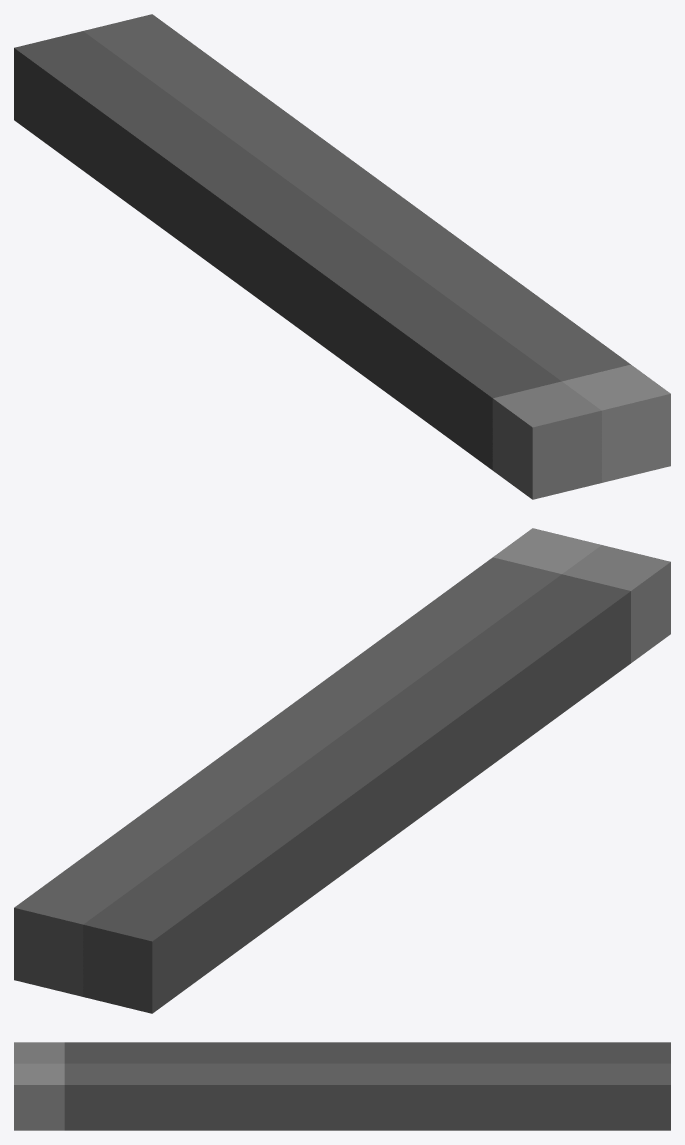
Rendered from ChronoAttackDirection.obj.
3 views of the same model, one above another, from view 1: azimuth 30°, elevation 25°; view 2: azimuth 150°, elevation 25°; view 3: azimuth 270°, elevation 25° (orthographic). The views are drawn at different scales.
Visible parts, largest first — view 1: ChronoAttackDirection; view 2: ChronoAttackDirection; view 3: ChronoAttackDirection.
Part boxes in pixels (bbox=[...]): ChronoAttackDirection: bbox=[14, 14, 670, 499]; ChronoAttackDirection: bbox=[14, 528, 670, 1013]; ChronoAttackDirection: bbox=[14, 1042, 670, 1130].
Bounding box in the file's own units: 2 × 1 × 13.
1 material, 1 textured.
